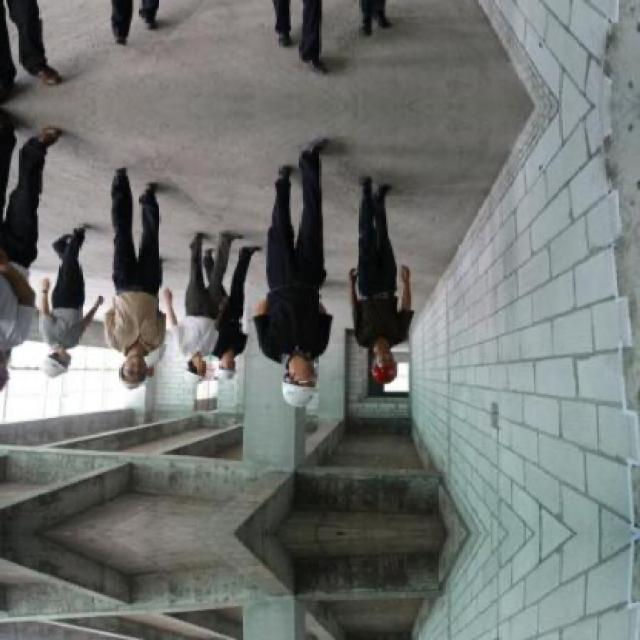con casco: (271, 354, 345, 416), (370, 348, 410, 398), (185, 358, 245, 389), (124, 356, 154, 394)
